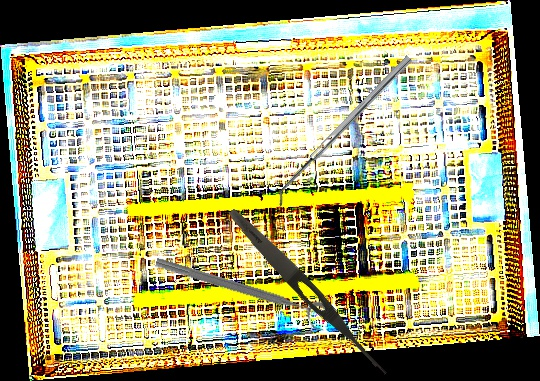Dressing Forceps: (224, 204, 394, 380)
Fixation Ring: (150, 252, 333, 334)
Spatula Surgical: (269, 55, 418, 208)
